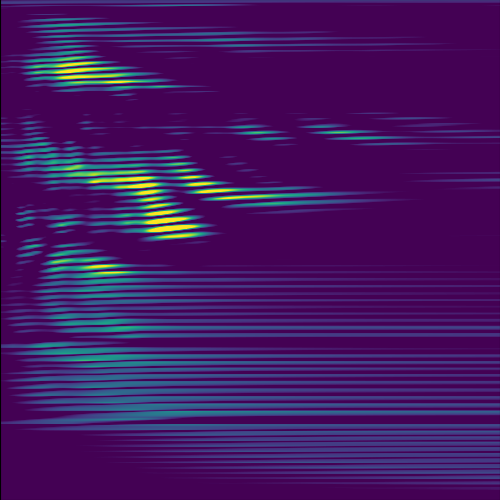semblance: (129, 195, 210, 247), (48, 51, 144, 94), (63, 158, 166, 196)
